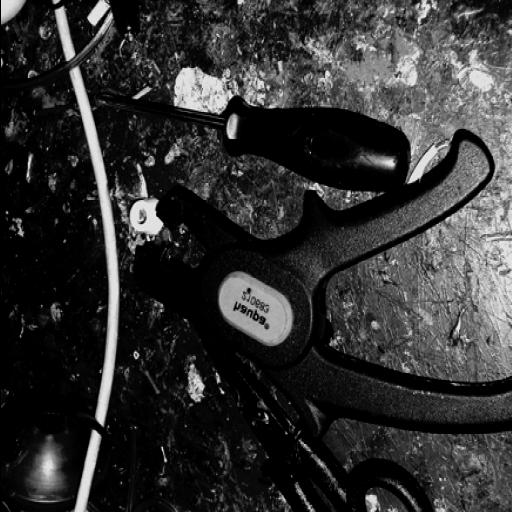screwdriver: (90, 88, 408, 188)
